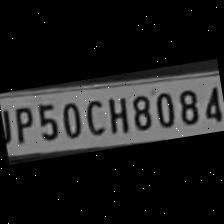0: (56, 96, 84, 140), (149, 86, 177, 130)
4: (195, 80, 224, 124)
5: (31, 97, 60, 142)
8: (172, 83, 202, 127), (125, 89, 155, 132)
C: (79, 94, 106, 138)
H: (100, 92, 131, 136)
P: (7, 102, 36, 145)
